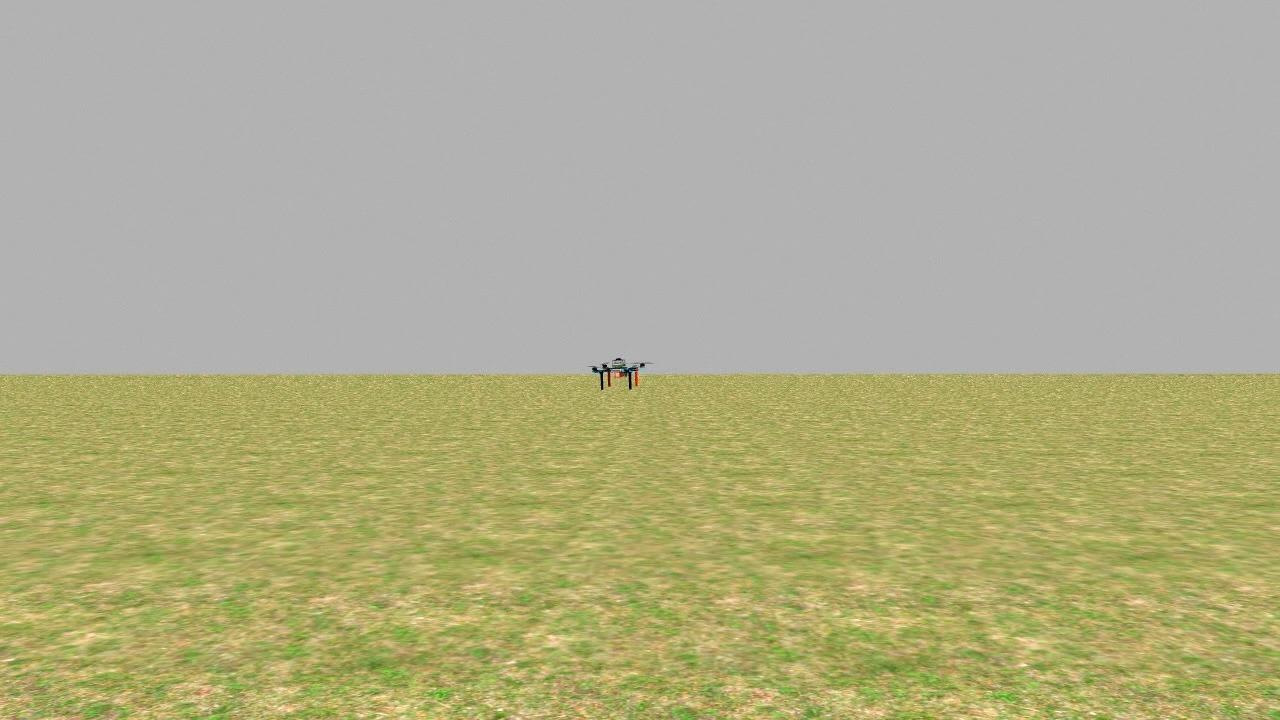UAV: (586, 351, 650, 399)
